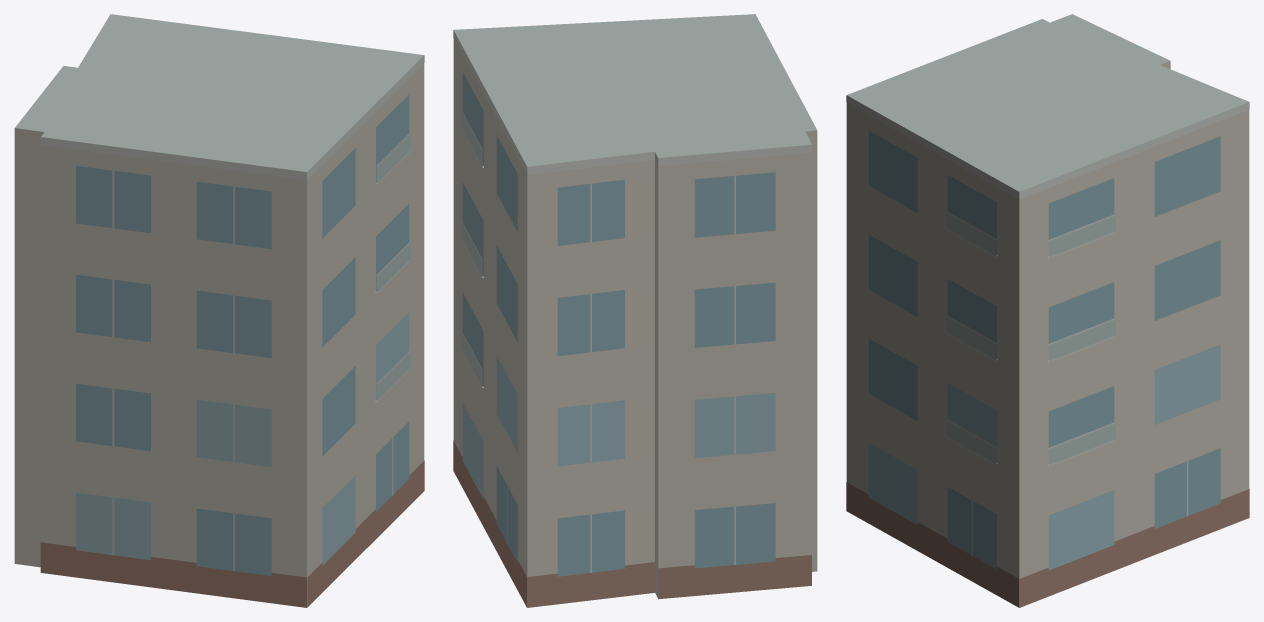
Rendered from survey-upis-32991135.glb.
3 views of the same model, side by side, from view 1: azimuth 30°, elevation 25°; view 2: azimuth 150°, elevation 25°; view 3: azimuth 270°, elevation 25° (orthographic). The views are drawn at different scales.
Parts seen in each view (by area): view 1: survey-upis-32991135.tmp; view 2: survey-upis-32991135.tmp; view 3: survey-upis-32991135.tmp.
Part boxes in pixels (x1,y1,x2,y2): survey-upis-32991135.tmp: [14, 14, 424, 607]; survey-upis-32991135.tmp: [453, 14, 817, 607]; survey-upis-32991135.tmp: [846, 14, 1249, 607].
Size of the model in its own units: 12.12 by 13.2 by 11.59.
